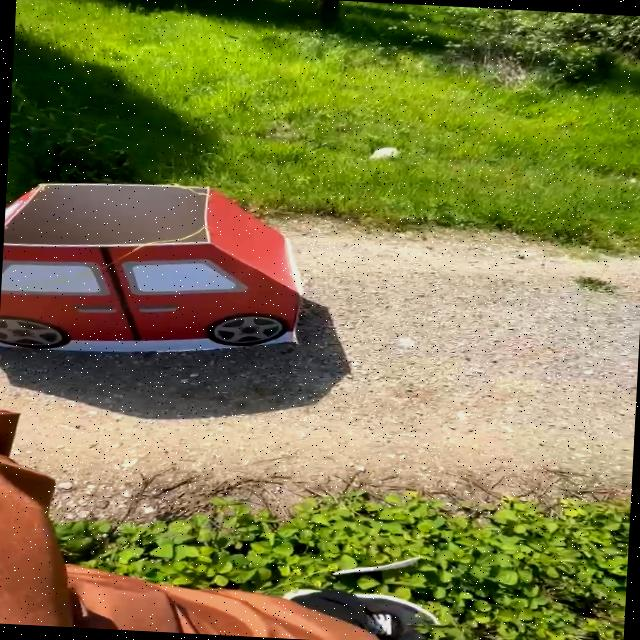red_car: (0, 174, 321, 374)
